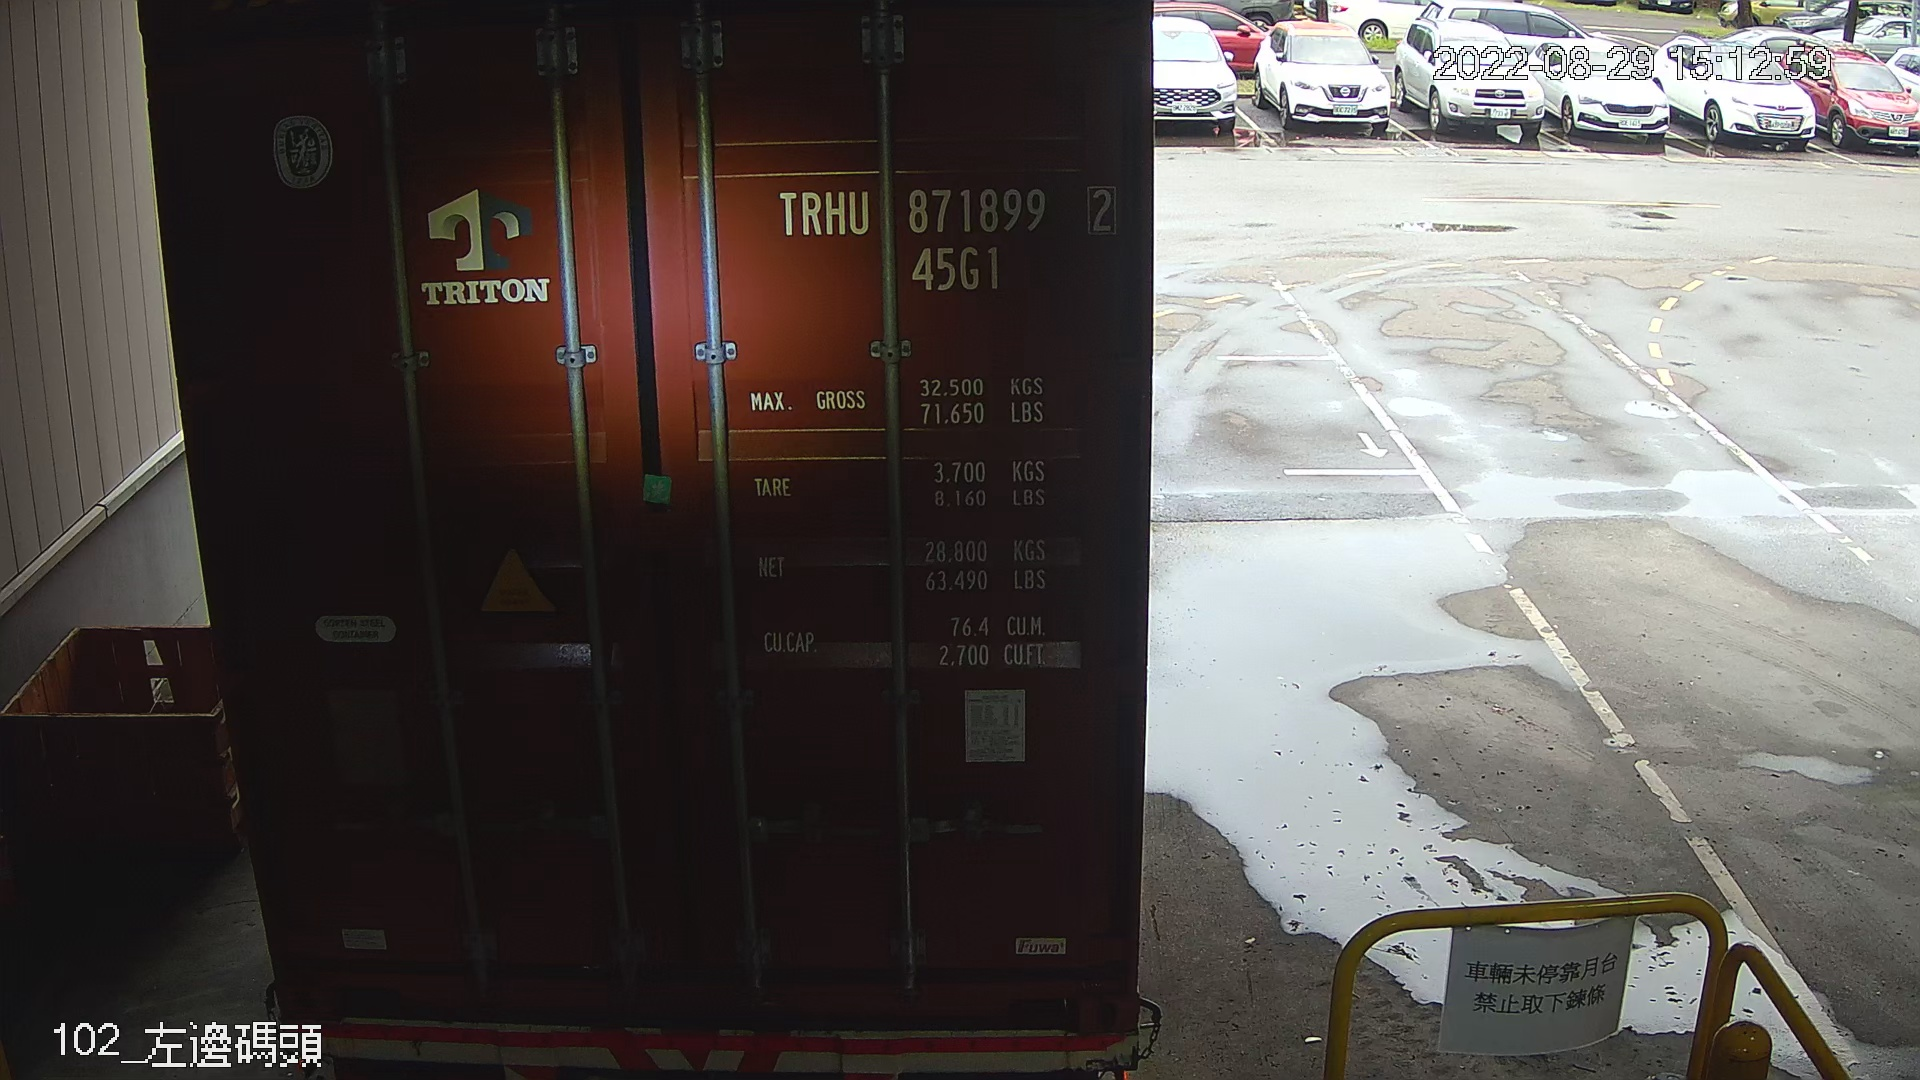container: (766, 170, 1131, 301)
